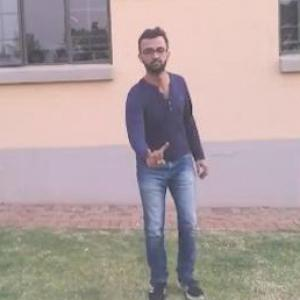takeoff-hand: (140, 134, 174, 173)
